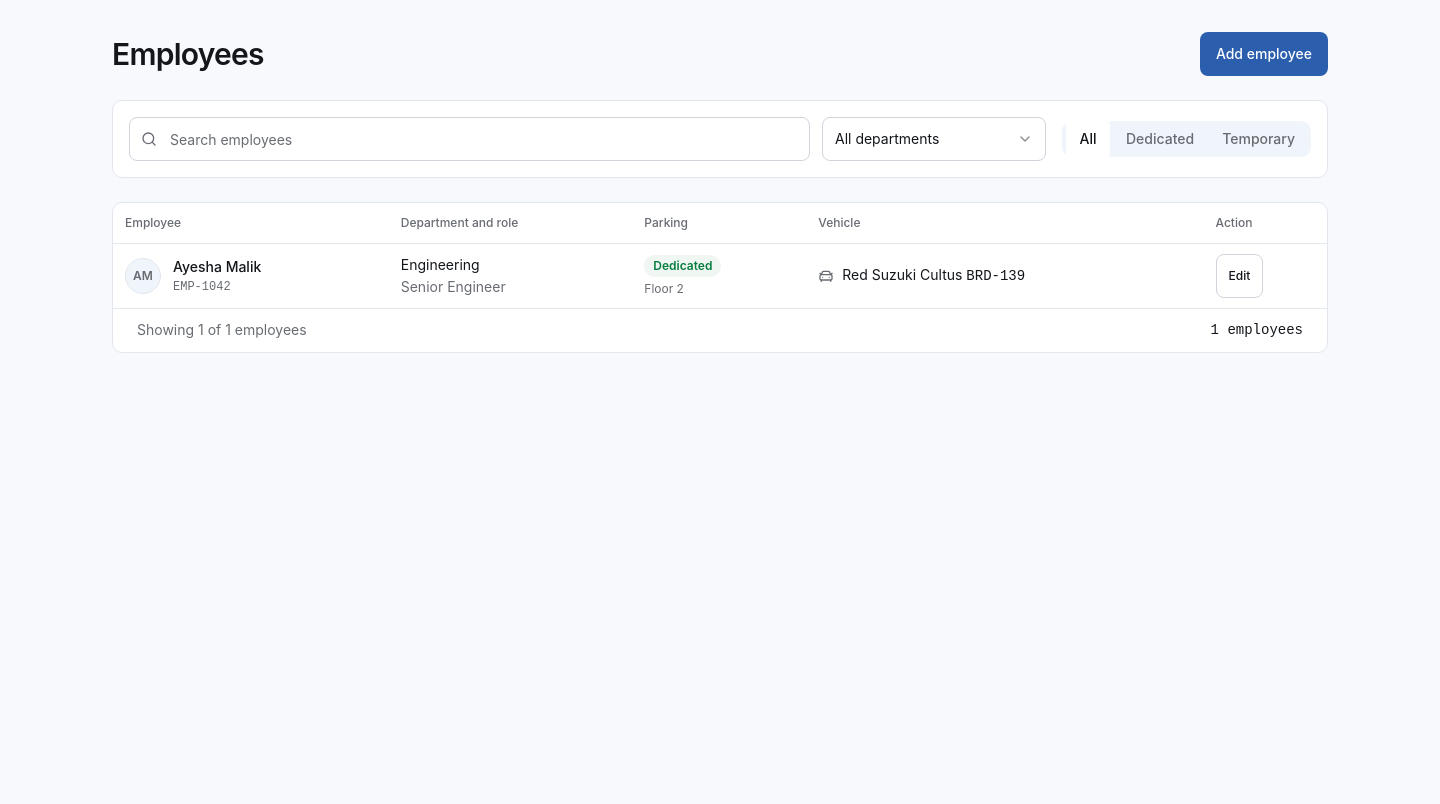
Test: parking administration acceptance › AC_21_2_ShowsTheReturnedUpdatedEmployeeAfterAChangeIsAccepted
Click the button "Edit" at (1239, 276), box x1=1216 y1=254 x2=1263 y2=298
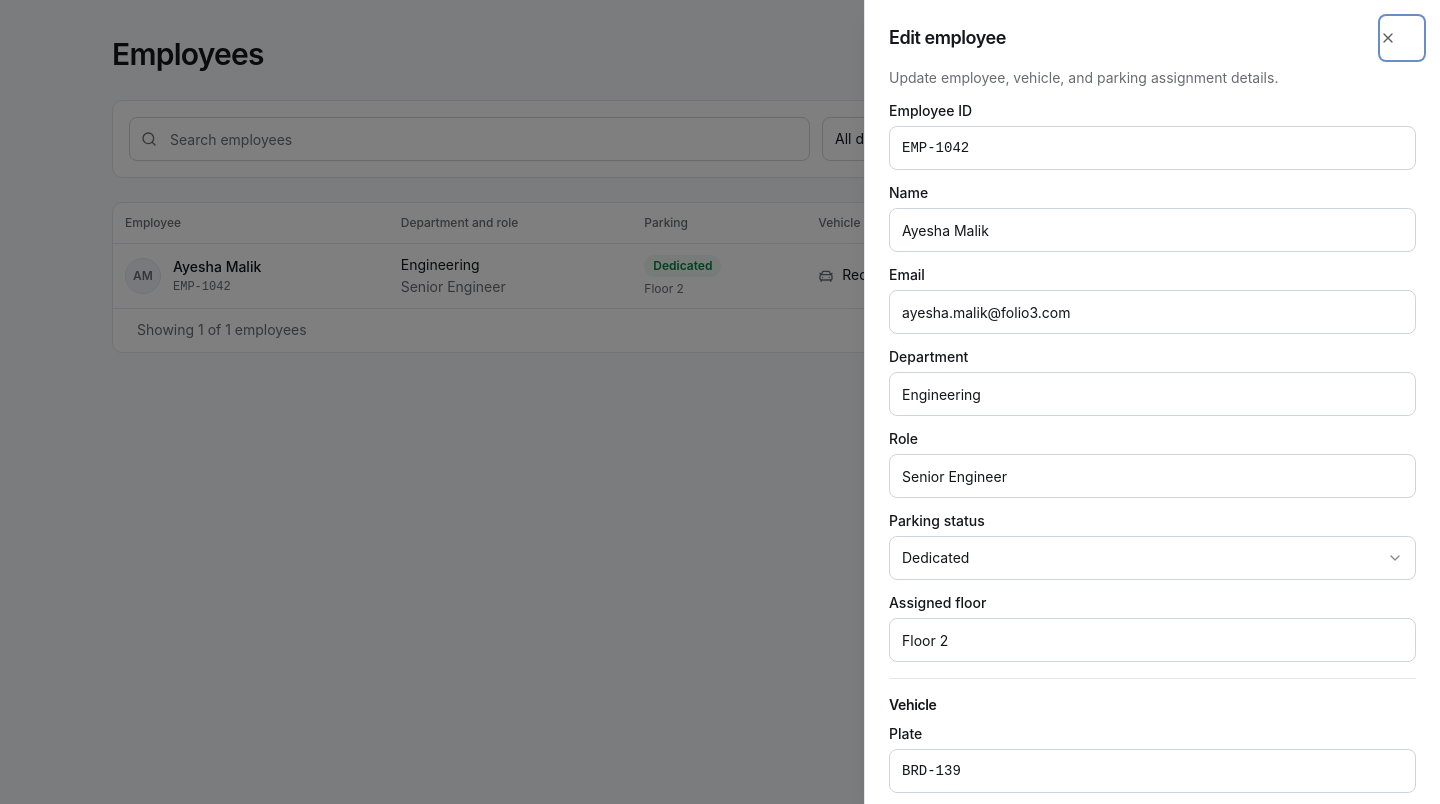
Replace the text in the field labelled "Role" with "Requested role" at (1152, 476), box x1=889 y1=454 x2=1416 y2=498
(page scrolled)
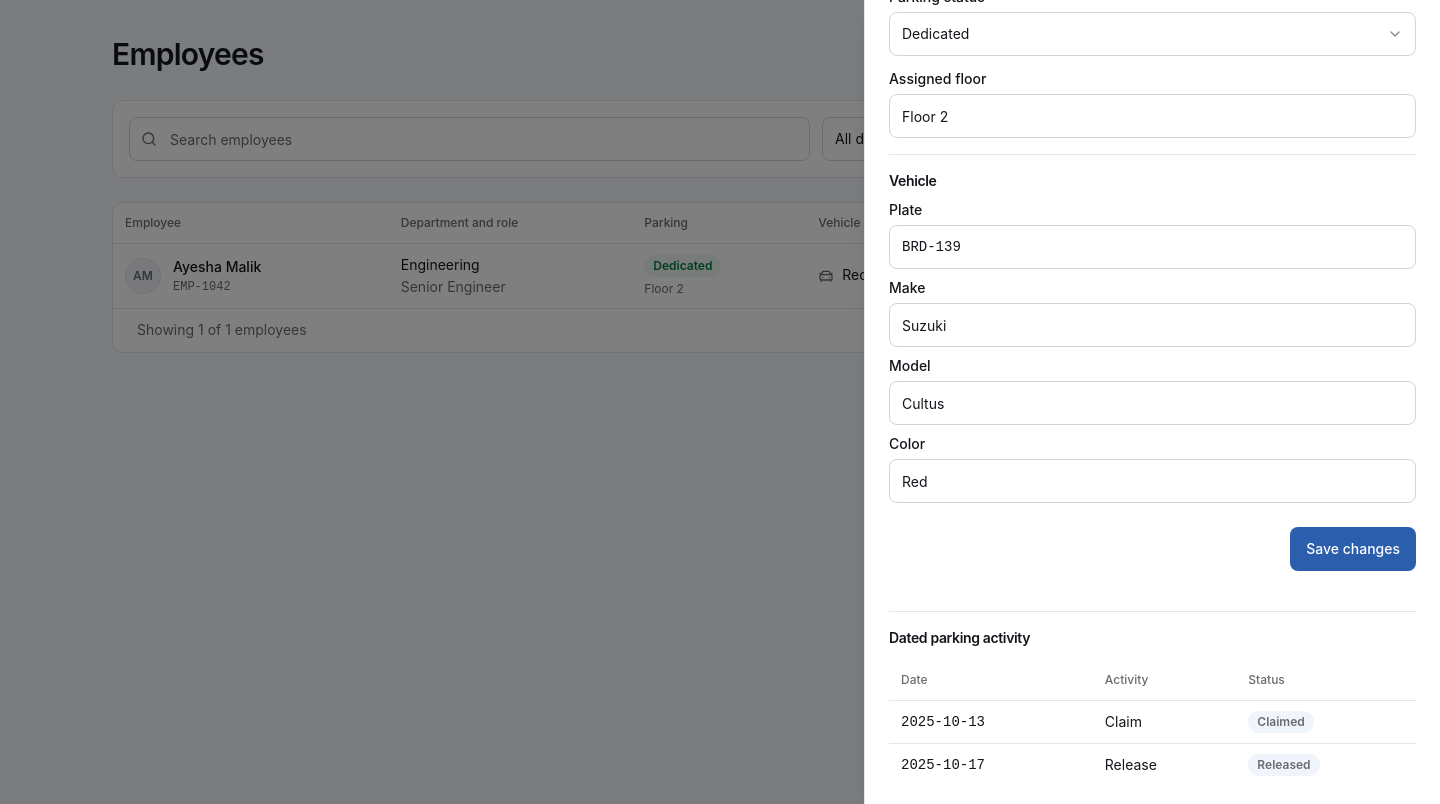
Click the button "Save changes" at (1353, 549), box x1=1290 y1=527 x2=1416 y2=571
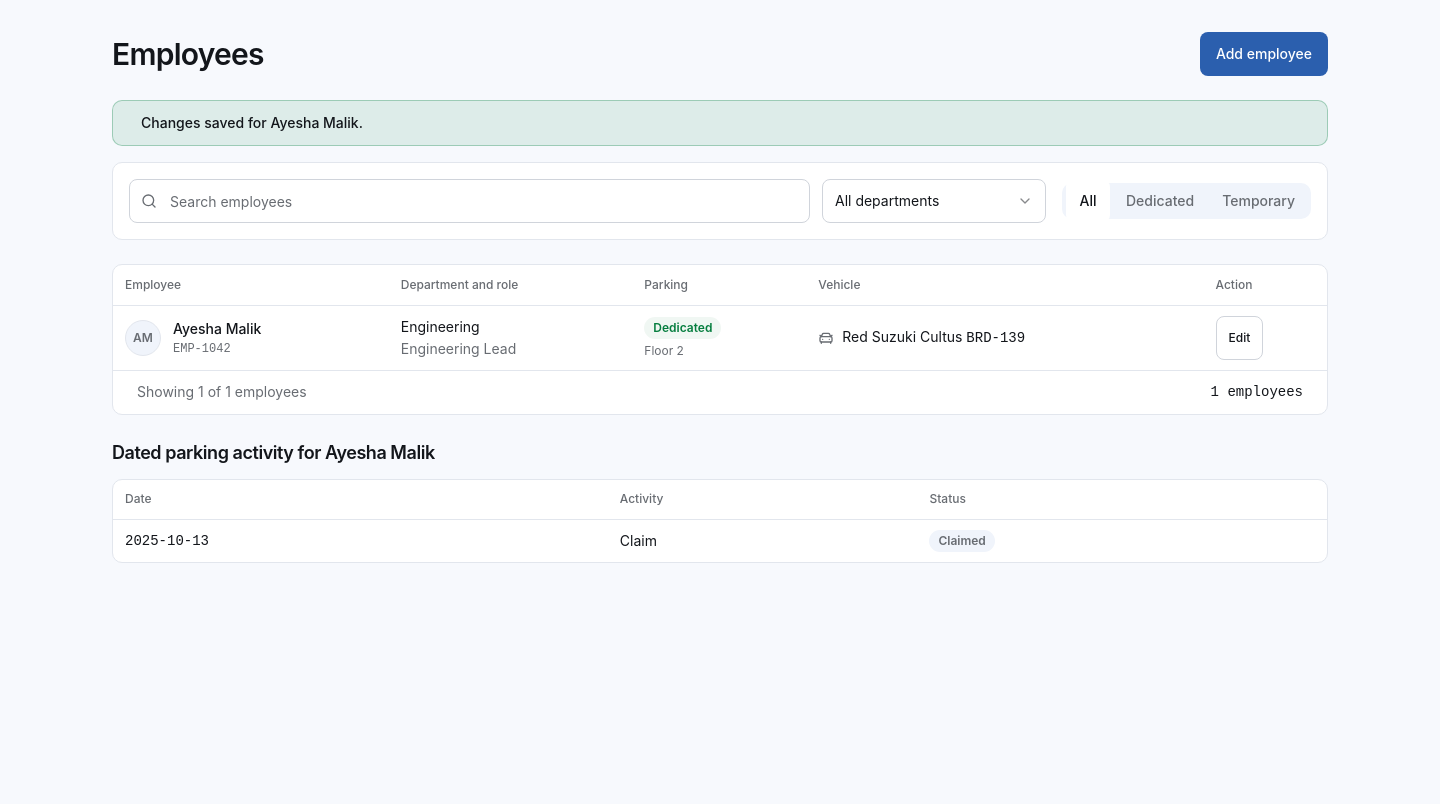
Now the text "Changes saved for Ayesha Malik." is shown, box x1=141 y1=114 x2=363 y2=131
Now the text "Engineering Lead" is shown, box x1=401 y1=340 x2=516 y2=356
